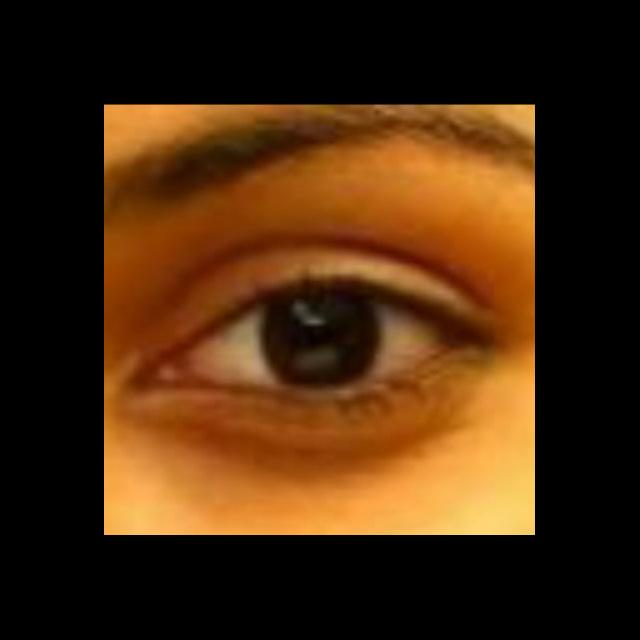eye: (184, 287, 450, 393)
iris: (263, 289, 379, 388)
